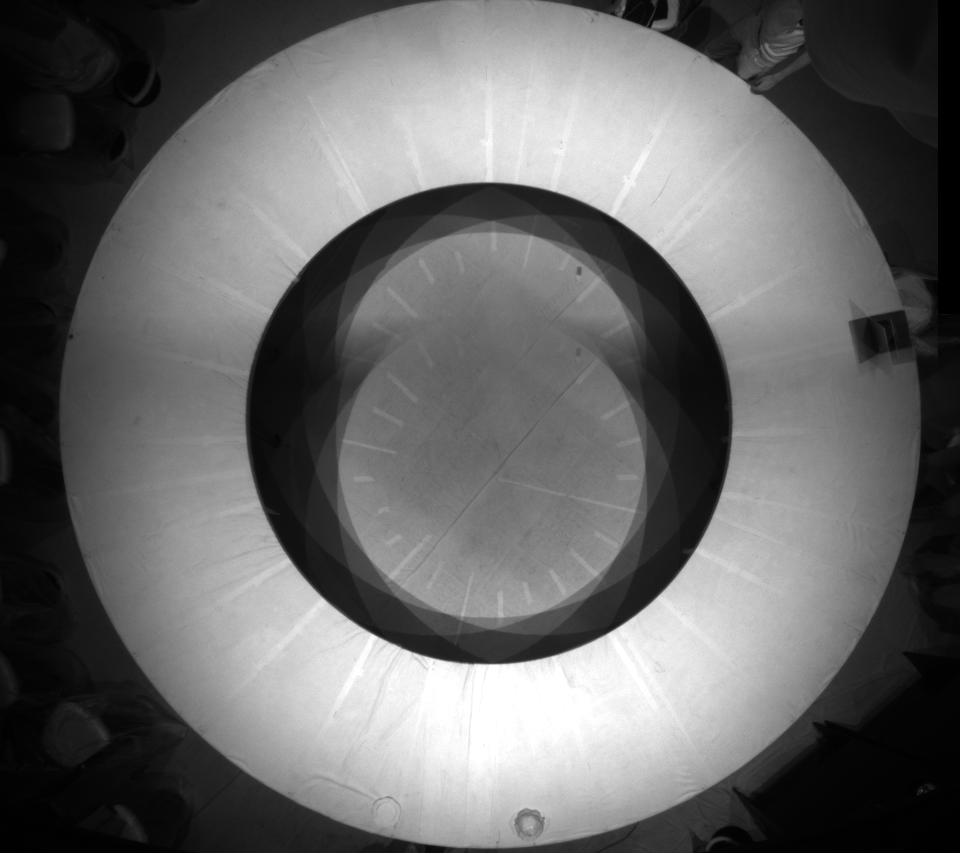Plate: (368, 792, 405, 829)
